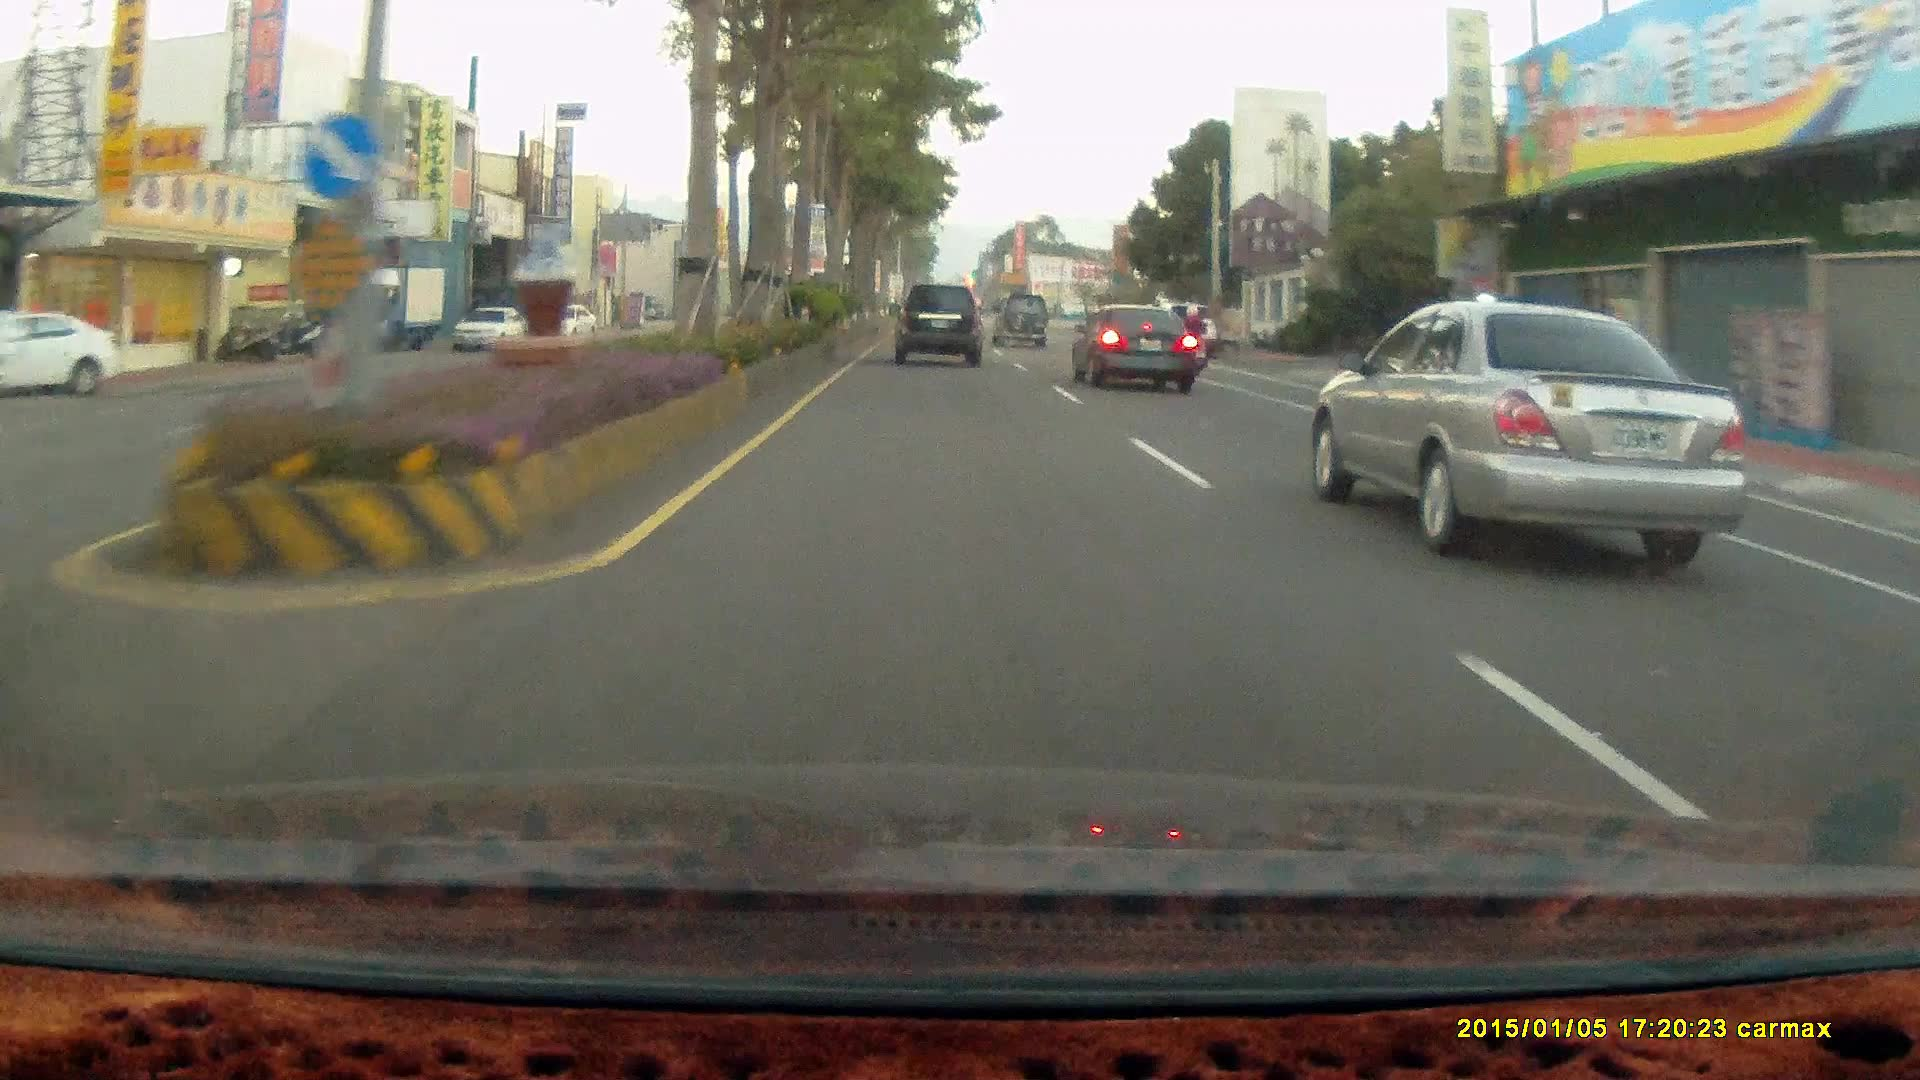rider: (1168, 301, 1214, 376)
vehicle: (1299, 298, 1743, 574), (1068, 302, 1197, 394), (1073, 306, 1201, 394), (1, 307, 124, 398), (334, 266, 449, 356), (332, 260, 446, 350), (892, 276, 987, 361), (894, 281, 980, 365), (449, 305, 530, 351), (454, 307, 536, 353), (990, 291, 1050, 351)
